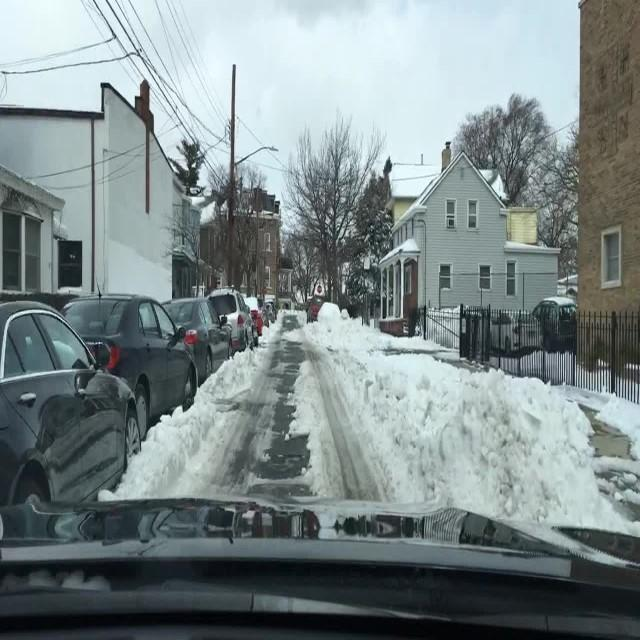normal: (64, 292, 202, 439), (164, 299, 234, 381), (205, 287, 255, 349), (268, 312, 308, 347)
